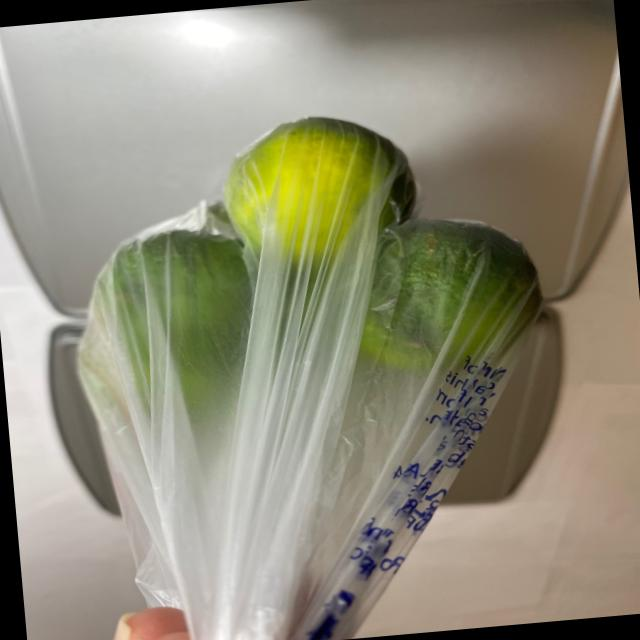lemon: (58, 92, 554, 452)
